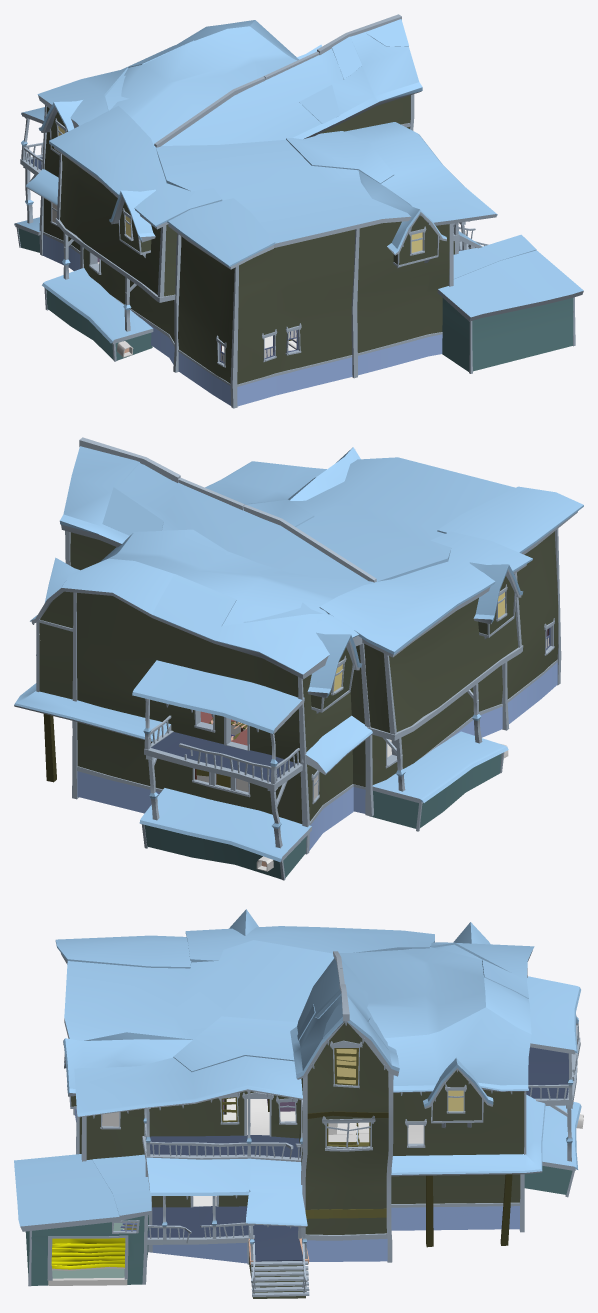
File: gray_manor.fbx
The picture shows the model from 3 angles, top to bottom: view 1: azimuth 30°, elevation 25°; view 2: azimuth 150°, elevation 25°; view 3: azimuth 270°, elevation 25°; orthographic projection. The views are drawn at different scales.
Visible parts, largest first — view 1: mainbuilding; view 2: mainbuilding; view 3: mainbuilding, garagedoor.
Boxes of the visible parts, left/top/right/bottom form: mainbuilding: left=14, top=14, right=583, bottom=408; mainbuilding: left=14, top=437, right=583, bottom=880; mainbuilding: left=14, top=909, right=583, bottom=1298; garagedoor: left=51, top=1238, right=125, bottom=1270.
Bounding box in the file's own units: 3033 × 1809 × 3502.
